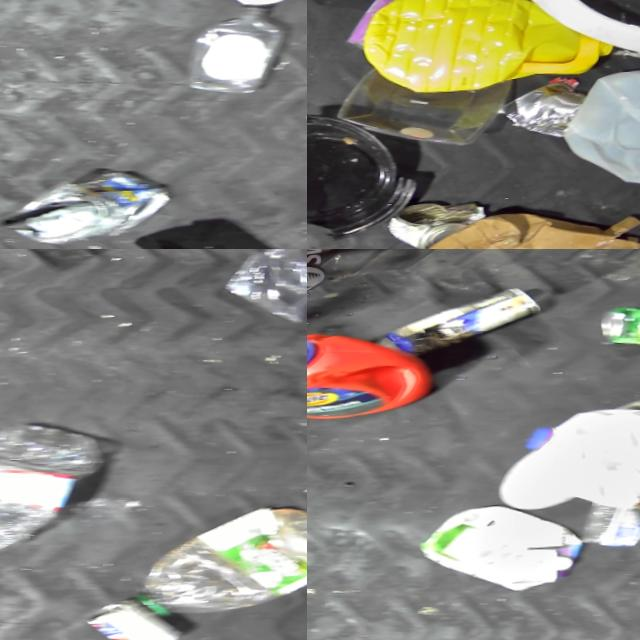can: (87, 596, 200, 640), (396, 200, 477, 249), (589, 306, 640, 352)
milk_jug: (508, 405, 640, 517), (553, 59, 640, 195)
non_white_jug: (362, 0, 614, 99), (307, 333, 428, 423)
plastic_bottle: (145, 503, 307, 623), (0, 419, 106, 572), (564, 499, 640, 550)
